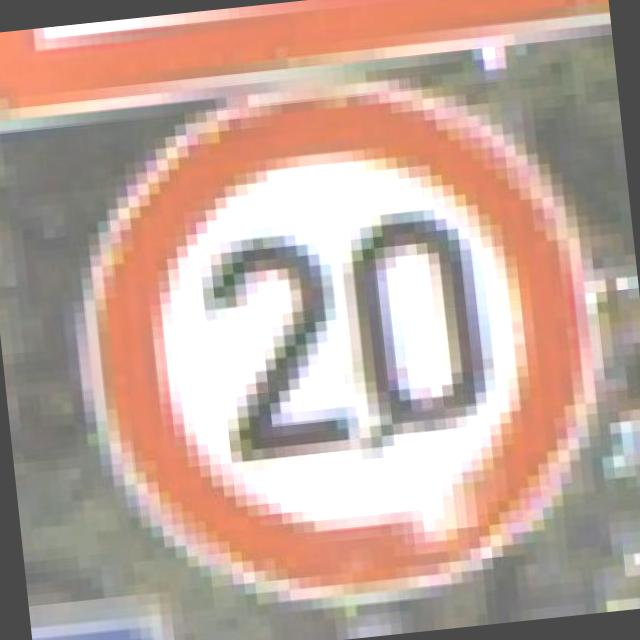Ograniczenie predkosci do 20: (31, 57, 640, 633)
